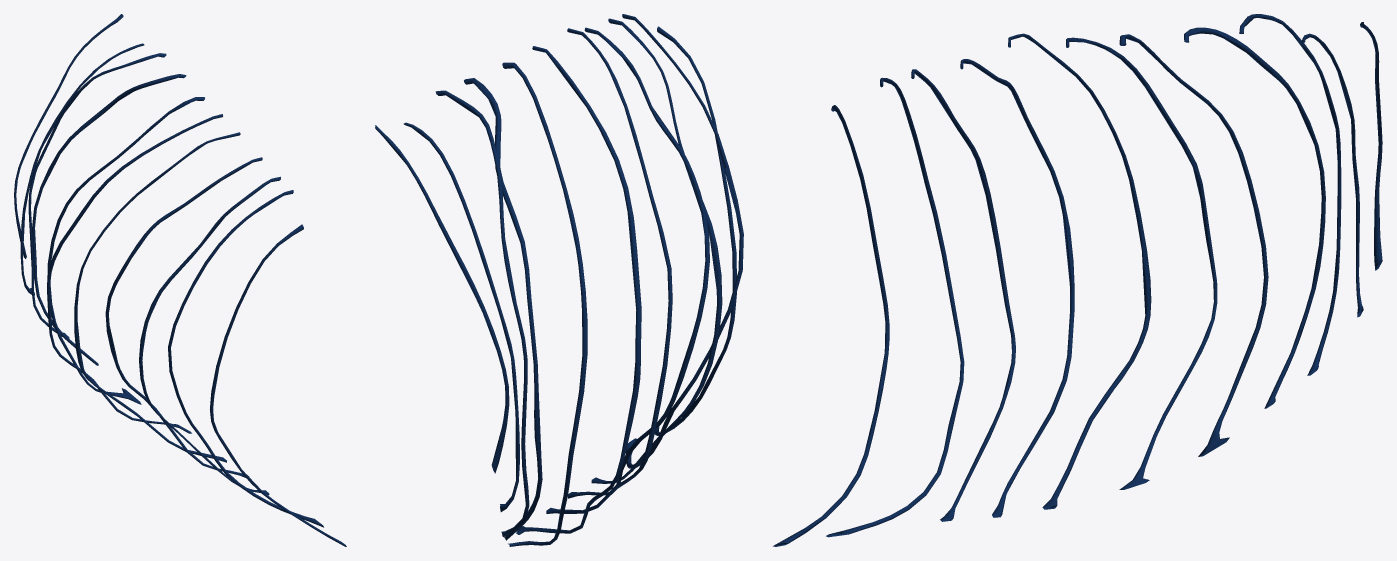
File: R venae rami intercostales ventrales.fbx
The picture shows the model from 3 angles, left to right: view 1: azimuth 30°, elevation 25°; view 2: azimuth 150°, elevation 25°; view 3: azimuth 270°, elevation 25°; orthographic projection. The views are drawn at different scales.
Parts seen in each view (by area): view 1: R venae rami intercostales ventrales, R venae rami intercostales ventrales low; view 2: R venae rami intercostales ventrales, R venae rami intercostales ventrales low; view 3: R venae rami intercostales ventrales, R venae rami intercostales ventrales low.
Part boxes in pixels (left/top/right/bottom): R venae rami intercostales ventrales: left=14, top=14, right=346, bottom=546; R venae rami intercostales ventrales low: left=15, top=16, right=343, bottom=544; R venae rami intercostales ventrales: left=375, top=14, right=743, bottom=546; R venae rami intercostales ventrales low: left=376, top=16, right=743, bottom=545; R venae rami intercostales ventrales: left=773, top=14, right=1382, bottom=546; R venae rami intercostales ventrales low: left=773, top=16, right=1382, bottom=545.
Bounding box in the file's own units: 16.34 × 41.34 × 44.07.
